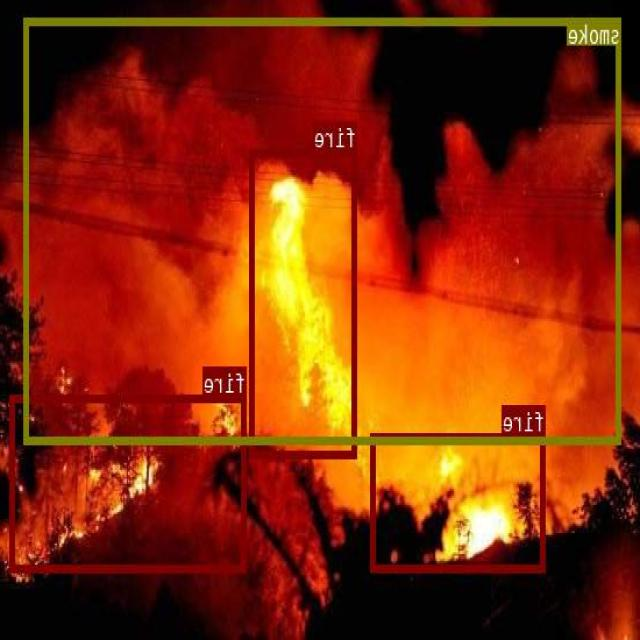fire: (11, 394, 248, 572), (251, 149, 357, 456), (372, 432, 546, 570)
smoke: (24, 16, 622, 442)
